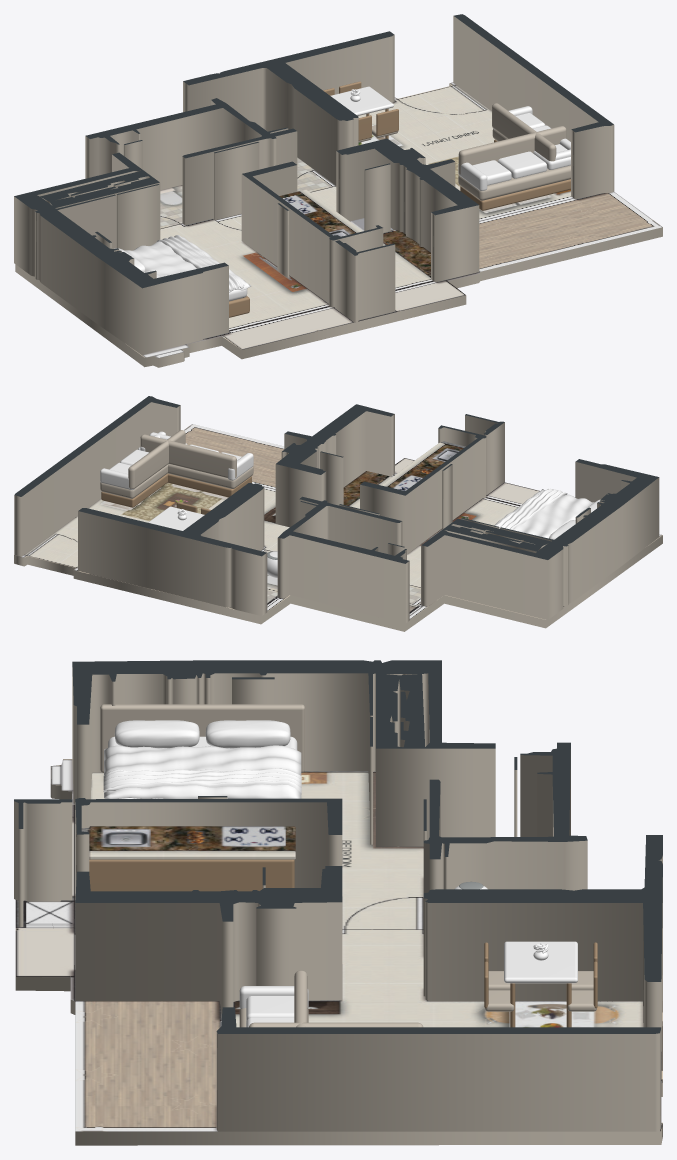
The picture shows the model from 3 angles, top to bottom: view 1: azimuth 30°, elevation 25°; view 2: azimuth 150°, elevation 25°; view 3: azimuth 270°, elevation 25°; orthographic projection. The views are drawn at different scales.
Visible parts, largest first — view 1: Partition walls, Apartment floor, Sofa back.001, Draped bed linen, Stone worktop, Upholstered sofa frame.001, Sofa back, Sofa plinth.001, Draped bed linen.001, Marble dining top, Seat cushion.004, Seat cushion.003 (+2 smaller); view 2: Partition walls, Apartment floor, Sofa back.001, Draped bed linen, Stone worktop, Sofa back, Draped bed linen.001, Upholstered sofa frame.001, Sofa plinth.001, Marble dining top, Upholstered sofa frame, Sofa plinth (+2 smaller); view 3: Partition walls, Apartment floor, Draped bed linen, Stone worktop, Kitchen cabinets, Upholstered headboard, Draped bed linen.001, Marble dining top, Tailored pillow, Tailored pillow.001, Seat cushion.003, Sofa back (+2 smaller).
Part boxes in pixels (box(x1,y1,x2,y2)): Partition walls: box(14, 14, 614, 355); Apartment floor: box(15, 82, 662, 367); Sofa back.001: box(458, 126, 566, 174); Draped bed linen: box(124, 237, 250, 292); Stone worktop: box(279, 189, 362, 236); Upholstered sofa frame.001: box(458, 165, 570, 200); Sofa back: box(492, 103, 556, 161); Sofa plinth.001: box(460, 179, 570, 210); Draped bed linen.001: box(156, 235, 244, 291); Marble dining top: box(330, 86, 393, 115); Seat cushion.004: box(498, 151, 546, 178); Seat cushion.003: box(472, 160, 511, 185); Partition walls: box(14, 396, 659, 623); Apartment floor: box(14, 424, 662, 631); Sofa back.001: box(140, 434, 236, 477); Draped bed linen: box(494, 489, 594, 538); Stone worktop: box(381, 441, 465, 490); Sofa back: box(128, 430, 185, 488); Draped bed linen.001: box(495, 489, 567, 529); Upholstered sofa frame.001: box(167, 464, 253, 488); Sofa plinth.001: box(167, 473, 251, 497); Marble dining top: box(148, 506, 204, 530); Upholstered sofa frame: box(100, 464, 167, 498); Sofa plinth: box(101, 473, 167, 507); Partition walls: box(14, 660, 662, 1131); Apartment floor: box(15, 759, 662, 1145); Draped bed linen: box(104, 745, 301, 798); Stone worktop: box(81, 826, 295, 859); Kitchen cabinets: box(89, 859, 294, 891); Upholstered headboard: box(100, 704, 304, 772); Draped bed linen.001: box(103, 768, 301, 793); Marble dining top: box(504, 941, 577, 983); Tailored pillow: box(114, 720, 199, 748); Tailored pillow.001: box(205, 720, 290, 748); Seat cushion.003: box(246, 996, 294, 1022); Sofa back: box(249, 1022, 423, 1027).
Size of the model in its own units: 9.33 by 1.3 by 6.85.
10 materials, 1 textured.
